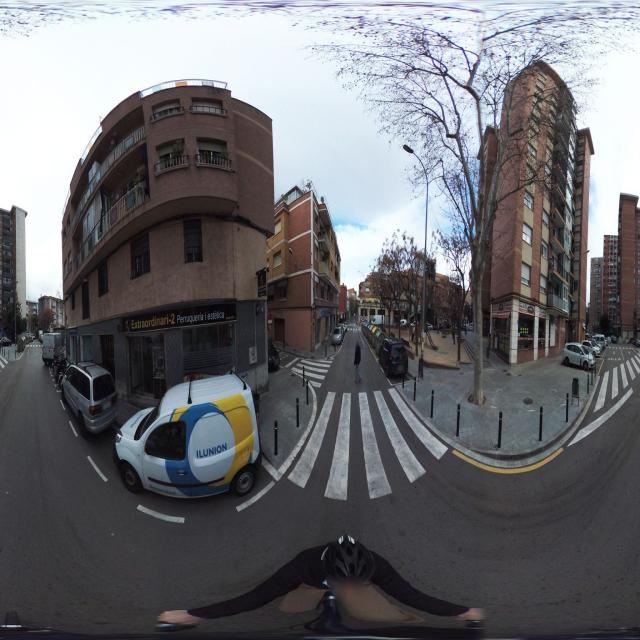forb_stopping: (555, 319, 557, 326)
